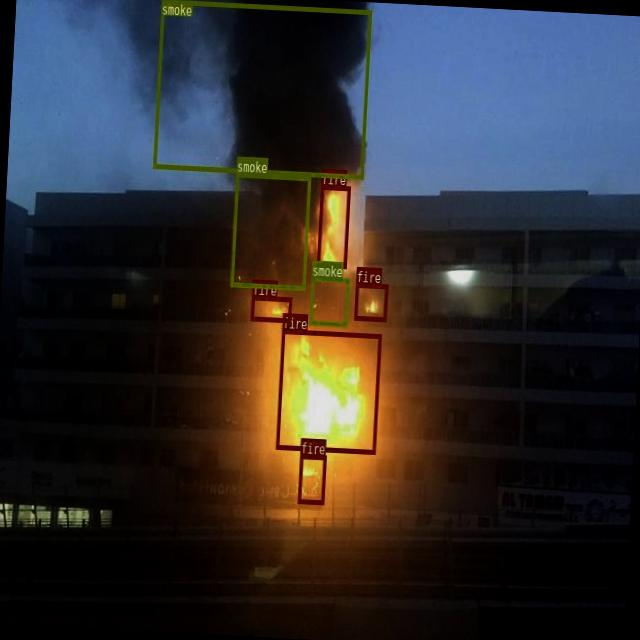fire: (276, 328, 382, 454), (317, 184, 350, 267), (297, 454, 326, 504), (354, 282, 388, 322), (250, 294, 292, 322)
smoke: (152, 0, 371, 178), (230, 172, 310, 290), (309, 276, 349, 326)
